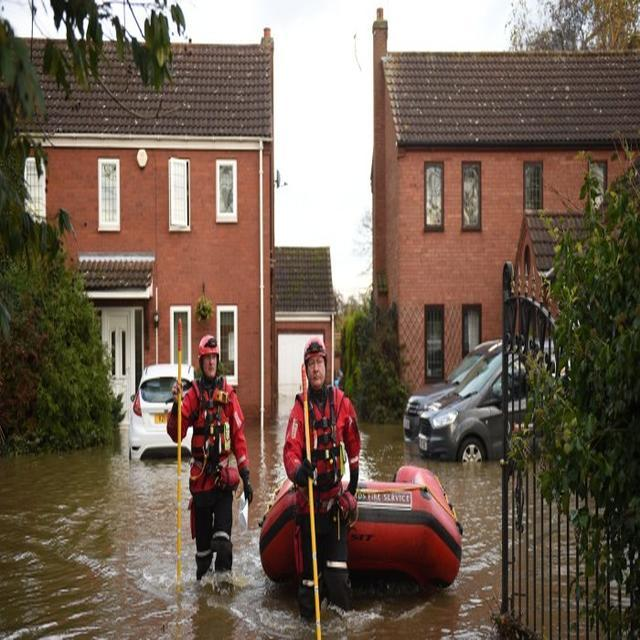Person-RiskLevel2: (164, 333, 252, 583), (283, 339, 357, 617)
